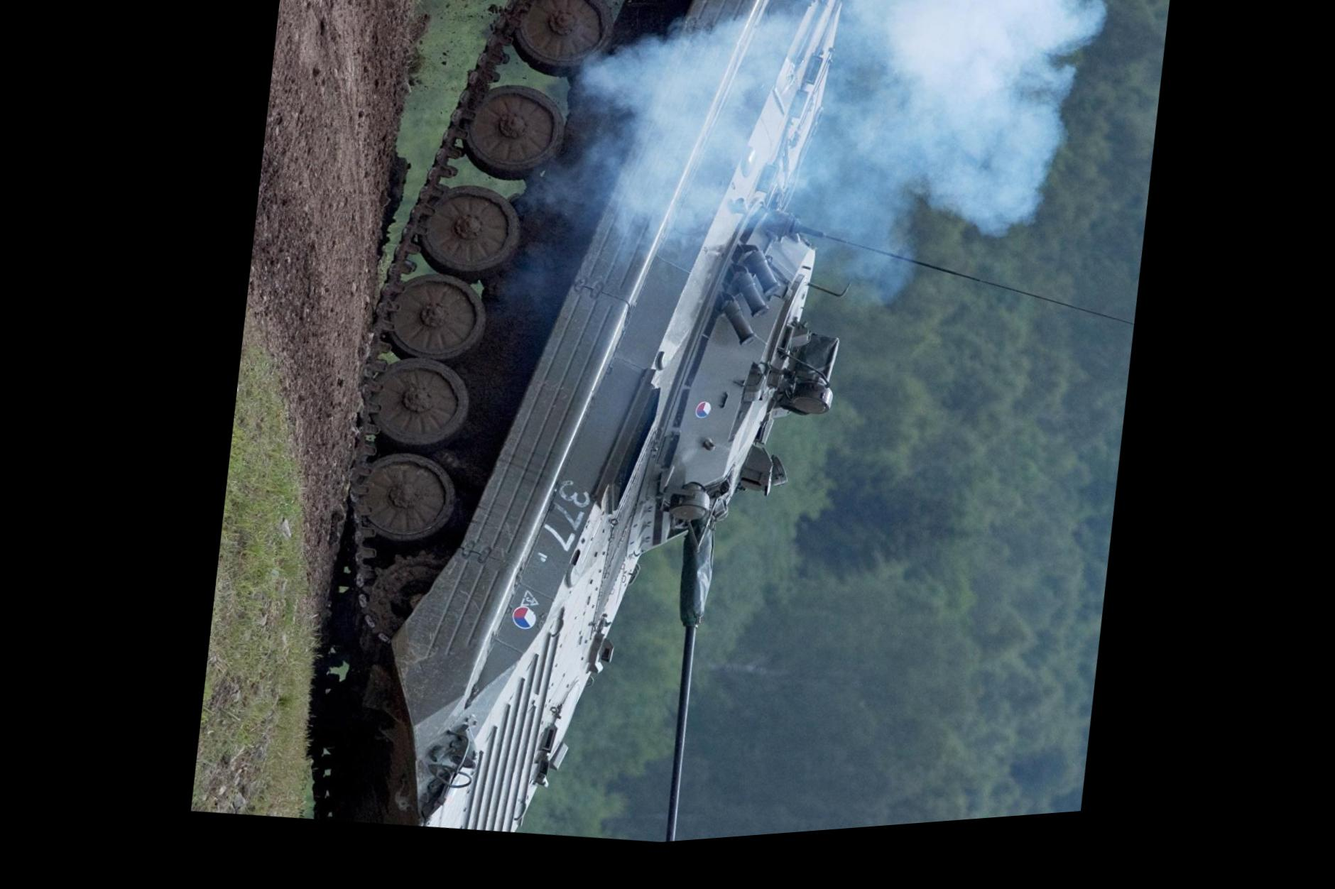tank: (267, 0, 909, 869)
